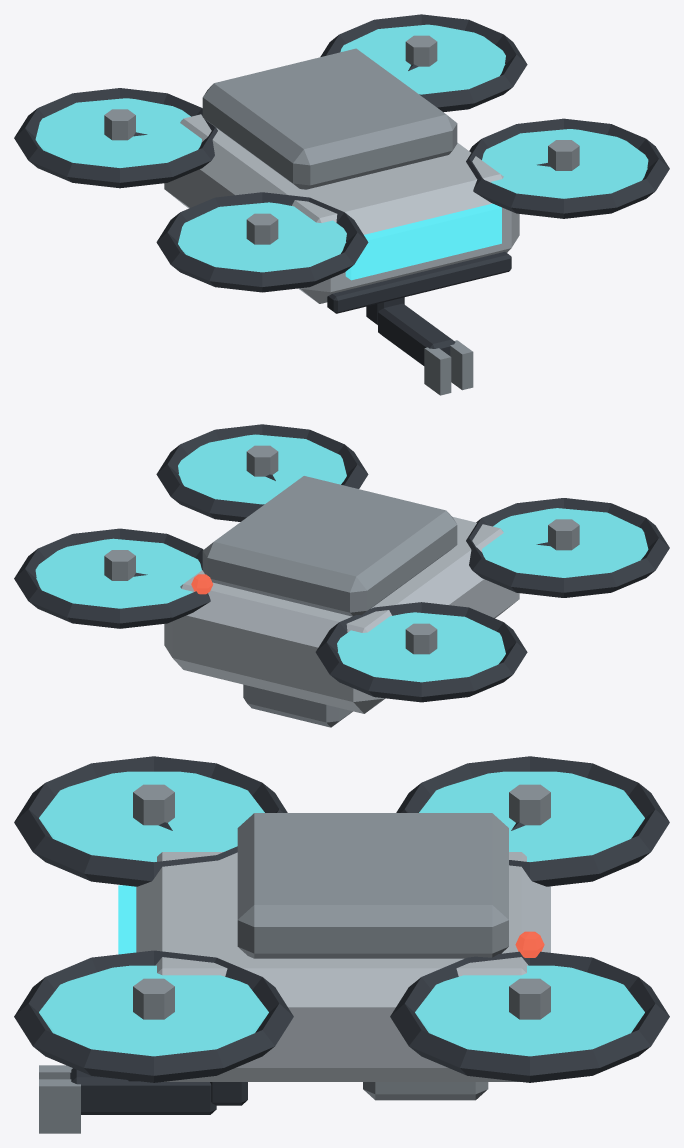
The model's file is exo-drone.glb.
The picture shows the model from 3 angles, top to bottom: view 1: azimuth 30°, elevation 25°; view 2: azimuth 150°, elevation 25°; view 3: azimuth 270°, elevation 25°; orthographic projection. The views are drawn at different scales.
Visible parts, largest first — view 1: body; view 2: body; view 3: body.
Part boxes in pixels (x1,y1,x2,y2): body: [14, 14, 669, 395]; body: [14, 424, 669, 727]; body: [14, 756, 669, 1133].
Bounding box in the file's own units: 3.54 × 1.39 × 3.14.
